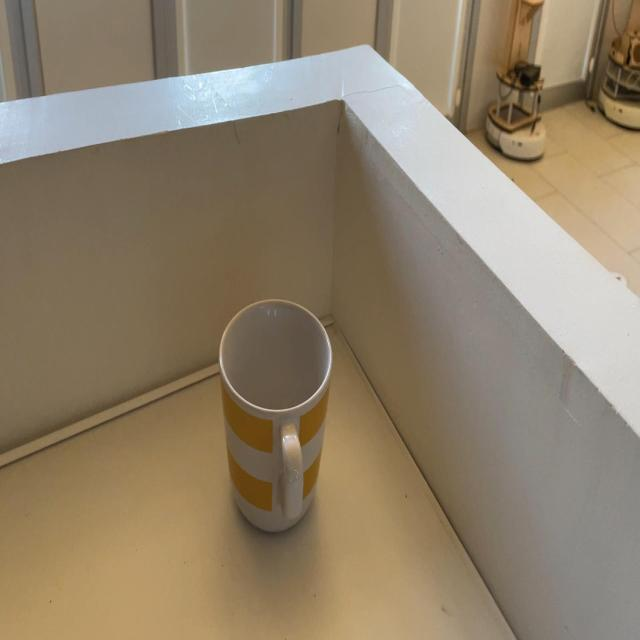cup: (214, 295, 340, 542)
